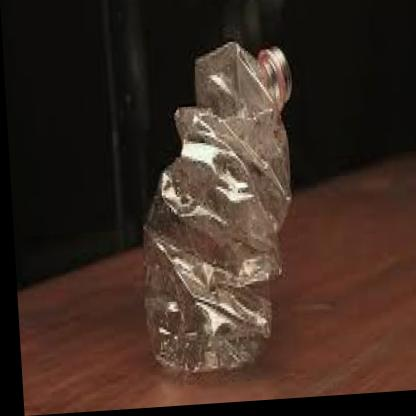Plastic: (112, 26, 314, 386)
